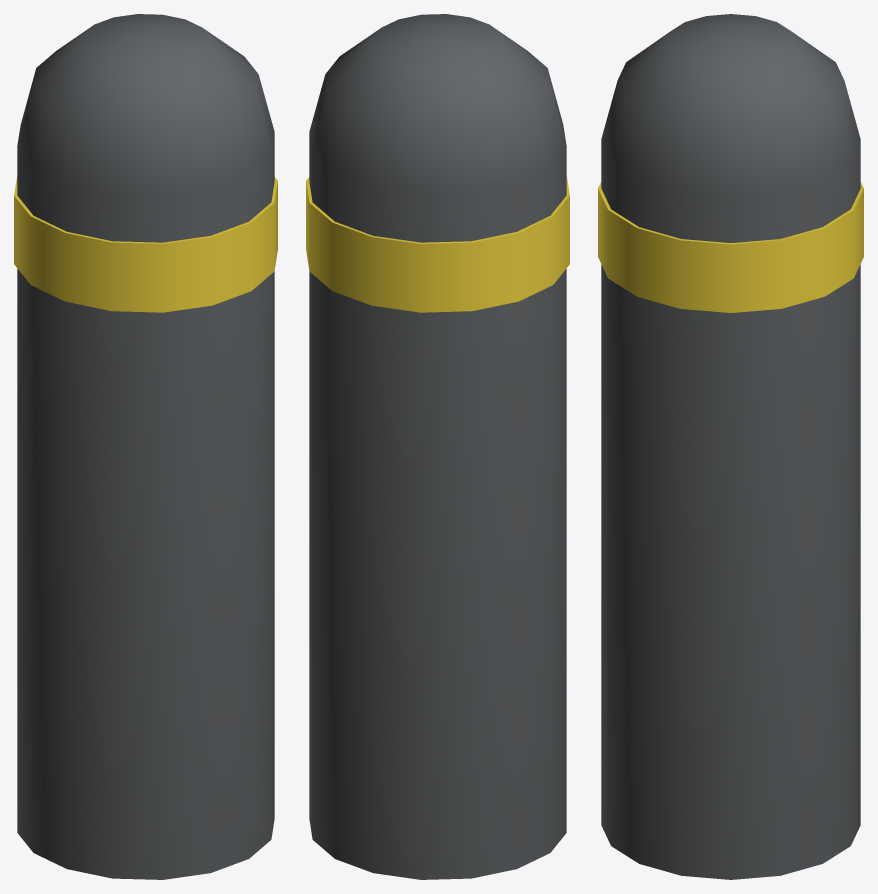
File: st_bollard.glb
3 views of the same model, side by side, from view 1: azimuth 30°, elevation 25°; view 2: azimuth 150°, elevation 25°; view 3: azimuth 270°, elevation 25° (orthographic).
Visible parts, largest first — view 1: body; view 2: body; view 3: body.
Boxes of the visible parts, x1,y1,x2,y2 form: body: [14, 14, 277, 879]; body: [306, 14, 569, 879]; body: [598, 14, 863, 879].
Size of the model in its own units: 0.246 by 0.81 by 0.246.
